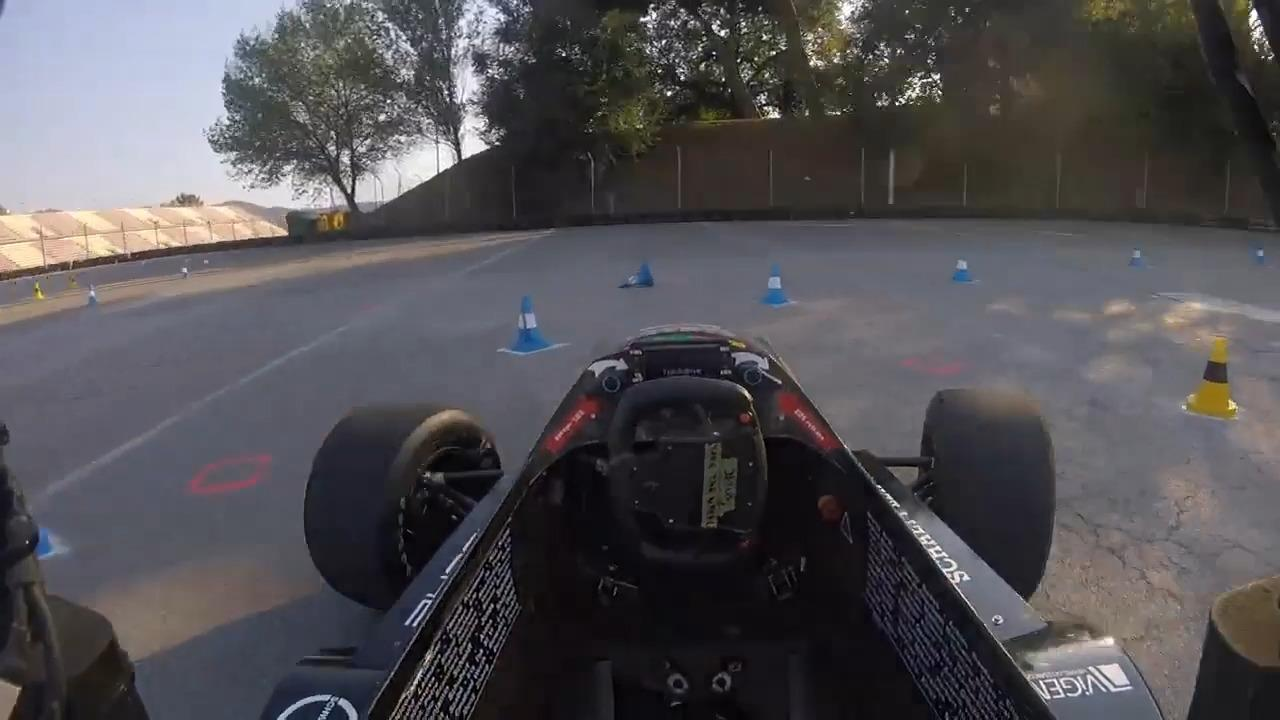blue_cone: (505, 295, 552, 357), (614, 254, 661, 294), (760, 258, 791, 309), (951, 250, 977, 283), (36, 523, 54, 561), (1127, 245, 1148, 268), (1254, 242, 1268, 269), (88, 282, 100, 307), (181, 266, 193, 282)
yellow_cone: (1183, 333, 1248, 425), (36, 286, 47, 302), (69, 275, 78, 288), (34, 280, 42, 292)
